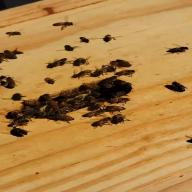Bee: (162, 77, 188, 94), (163, 44, 192, 58), (91, 115, 116, 130), (1, 74, 23, 90), (38, 75, 62, 89), (53, 20, 77, 31), (3, 30, 28, 39), (102, 32, 116, 44)
